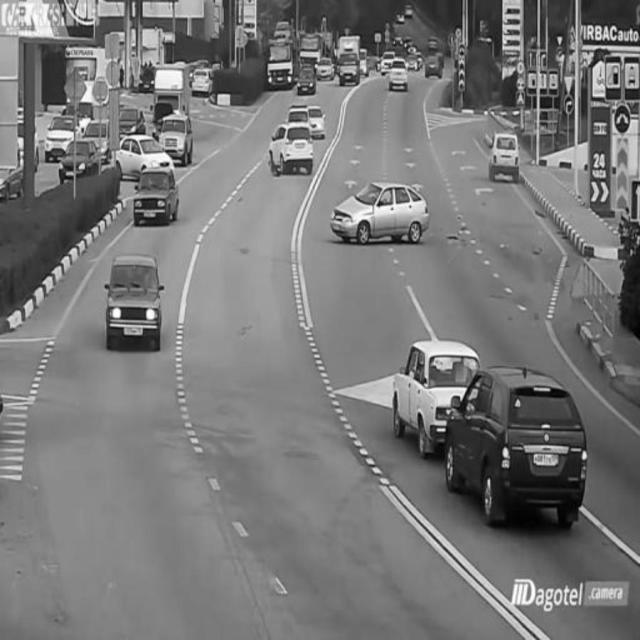vehicle: (443, 368, 591, 524), (390, 323, 468, 449), (103, 252, 164, 353), (333, 186, 431, 243), (266, 119, 316, 175), (133, 167, 181, 221), (118, 136, 169, 186), (53, 139, 101, 187), (161, 110, 198, 165), (485, 130, 522, 184), (267, 28, 299, 86), (334, 30, 366, 87), (42, 114, 80, 162), (295, 43, 323, 90), (387, 52, 412, 98), (188, 60, 216, 92), (423, 51, 445, 77)
